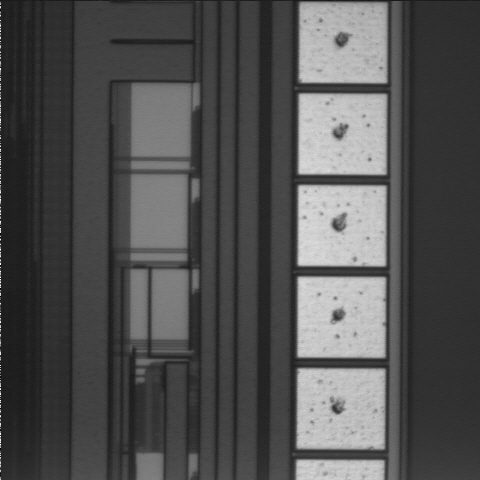pad: (299, 94, 386, 174), (298, 186, 385, 266), (298, 277, 385, 357), (297, 369, 384, 449), (300, 4, 386, 83)
